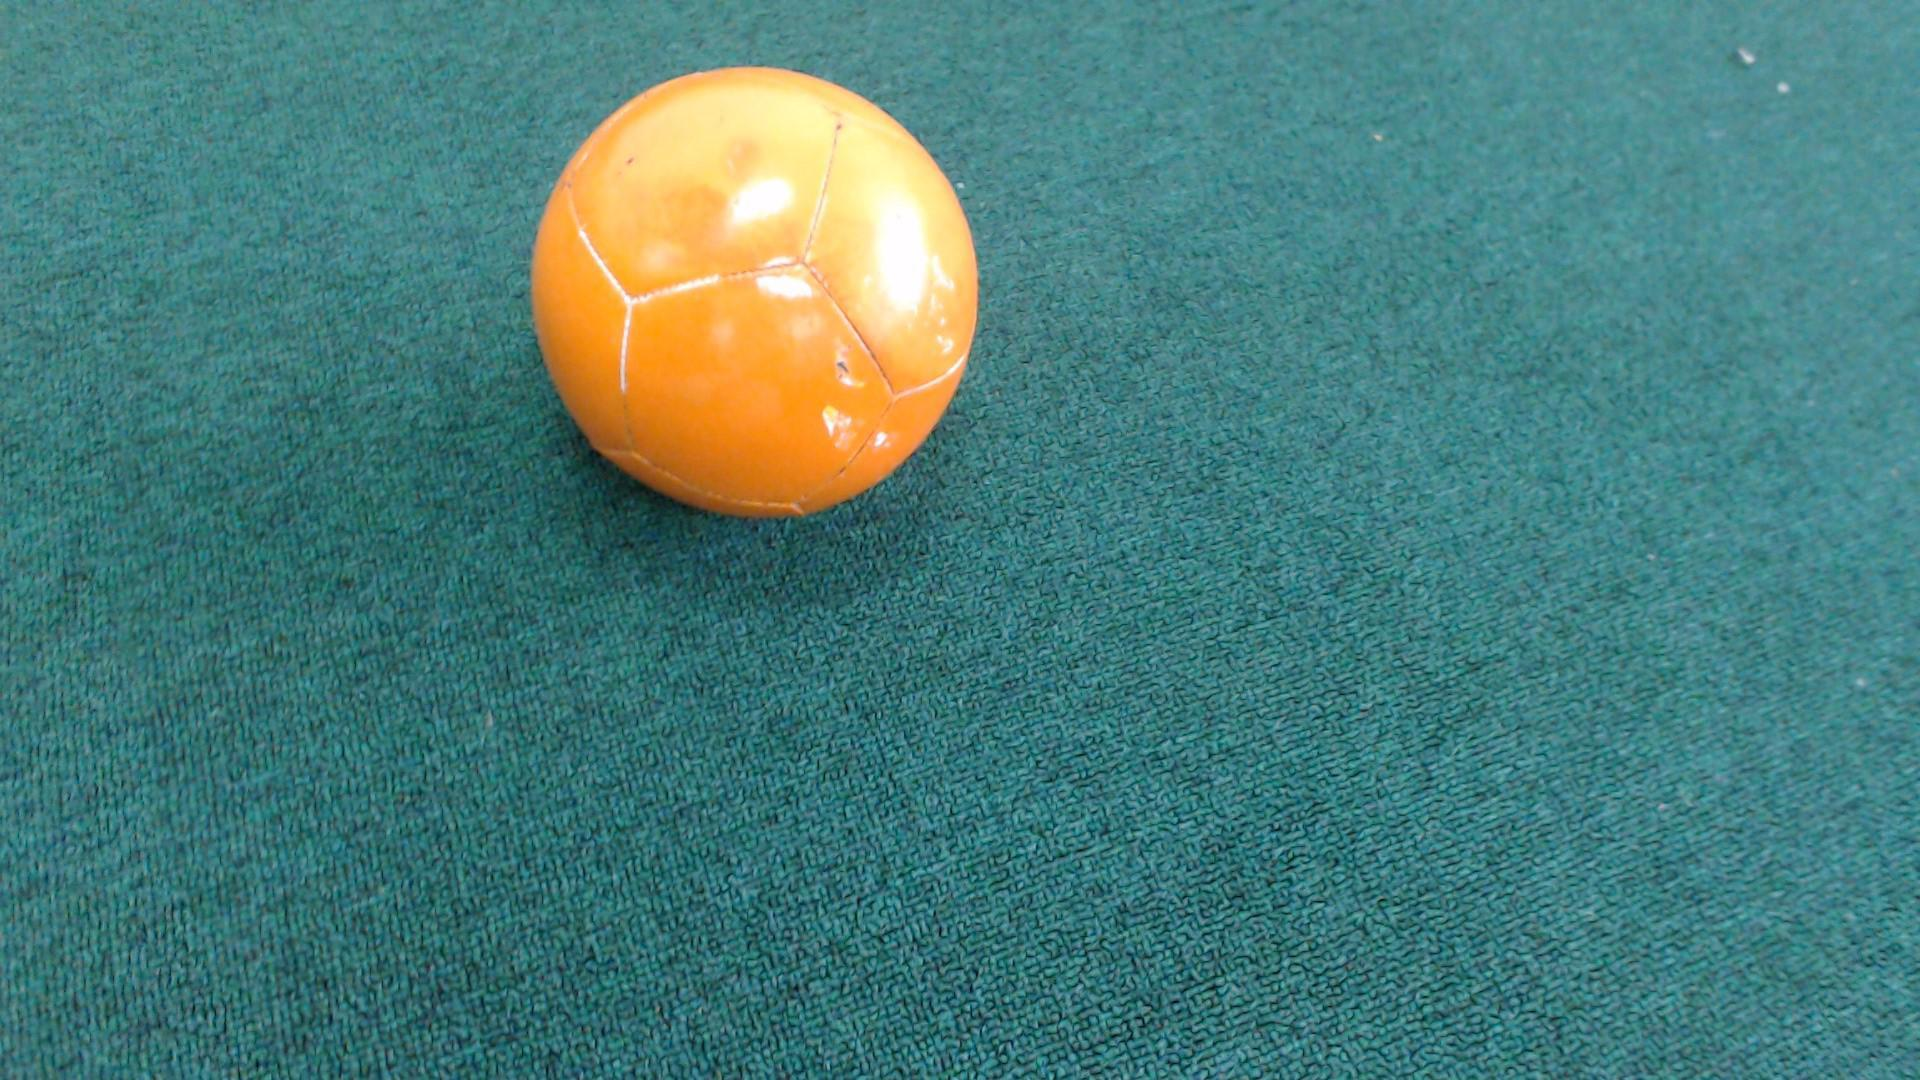bola: (505, 29, 1050, 553)
